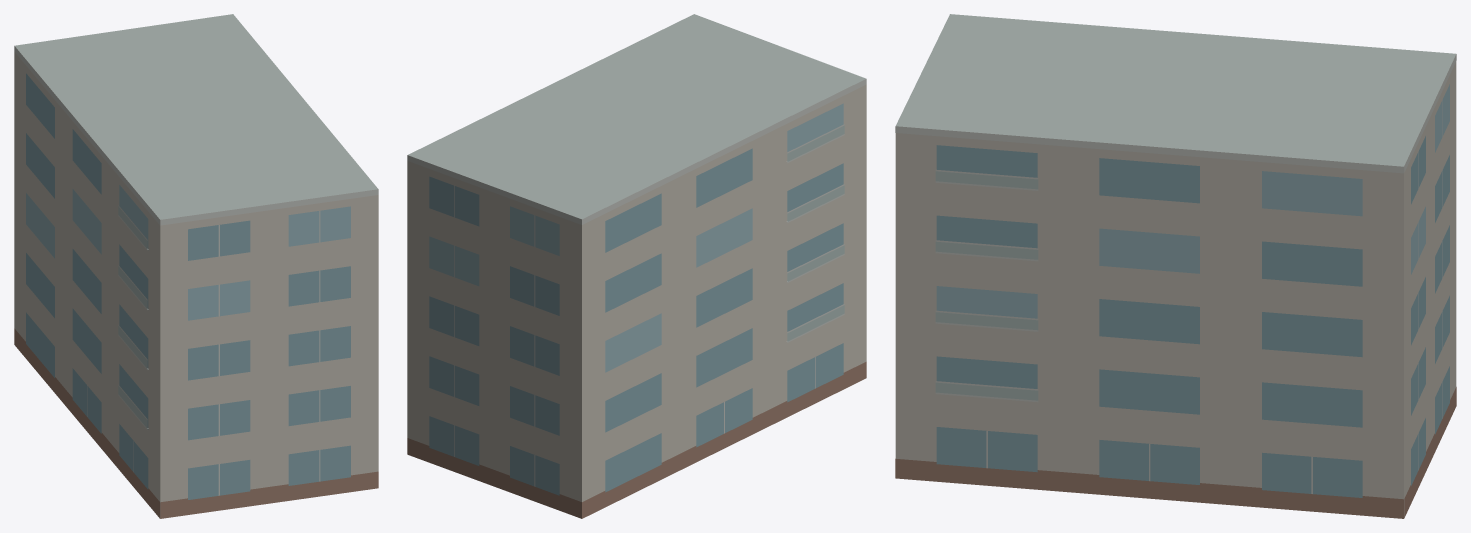
Rendered from survey-upis-32954030.glb.
The picture shows the model from 3 angles, left to right: view 1: azimuth 30°, elevation 25°; view 2: azimuth 150°, elevation 25°; view 3: azimuth 270°, elevation 25°; orthographic projection. The views are drawn at different scales.
Visible parts, largest first — view 1: survey-upis-32954030.tmp; view 2: survey-upis-32954030.tmp; view 3: survey-upis-32954030.tmp.
Boxes of the visible parts, x1,y1,x2,y2 form: survey-upis-32954030.tmp: [14, 14, 378, 518]; survey-upis-32954030.tmp: [407, 14, 866, 518]; survey-upis-32954030.tmp: [895, 14, 1456, 518].
Bounding box in the file's own units: 11.91 × 12.8 × 18.49.
